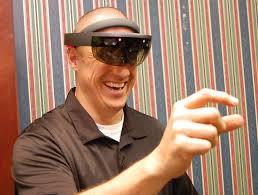hololens: (64, 27, 153, 69)
